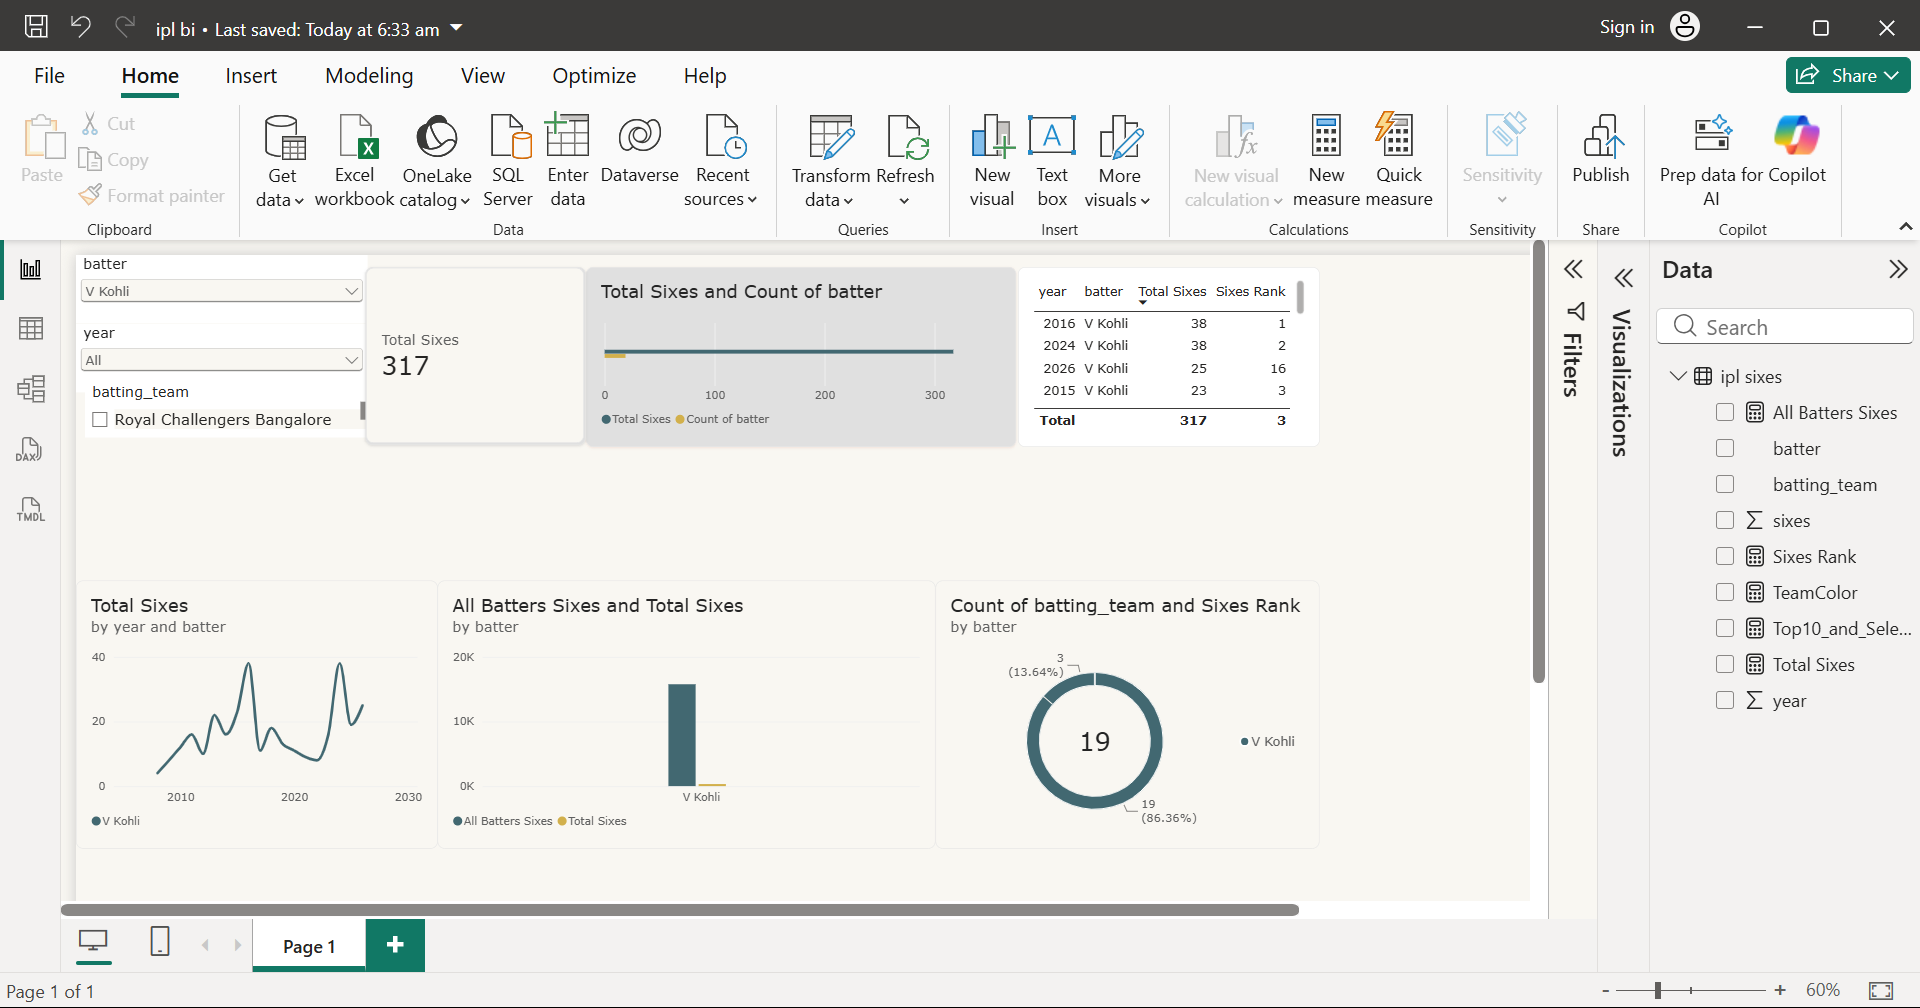

This screenshot's page, from the dashboard's own definition file:
{"tool":"powerbi","page":{"name":"Page 1","canvas":[1920,1080],"ordinal":0},"visuals":[{"type":"tableEx","fields":{"Values":["ipl sixes.year","ipl sixes.batter","ipl sixes.Total Sixes","ipl sixes.Sixes Rank"]},"box":[1046.7,13.3,335.6,200],"z":0},{"type":"slicer","fields":{"Values":["ipl sixes.year"]},"box":[0,76.2,323.9,76.1],"z":1000},{"type":"slicer","fields":{"Values":["ipl sixes.batter"]},"box":[0,0,323.8,76.2],"z":2000},{"type":"slicer","fields":{"Values":["ipl sixes.batting_team"]},"box":[9.5,141.3,314.3,60.3],"z":3000},{"type":"clusteredBarChart","fields":{"Y":["ipl sixes.Total Sixes","CountNonNull(ipl sixes.batter)"]},"box":[566.7,13.3,477.8,200],"z":4000},{"type":"cardVisual","fields":{"Data":["ipl sixes.Total Sixes"]},"box":[322.2,13.3,244.4,197.8],"z":5000},{"type":"clusteredColumnChart","fields":{"Category":["ipl sixes.batter"],"Y":["ipl sixes.All Batters Sixes","ipl sixes.Total Sixes"]},"box":[402.2,362.2,553.3,297.8],"z":6000},{"type":"lineChart","fields":{"Category":["ipl sixes.year"],"Y":["ipl sixes.Total Sixes"],"Series":["ipl sixes.batter"]},"box":[0,362.2,402.2,297.8],"z":7000},{"type":"donutChart","fields":{"Category":["ipl sixes.batter"],"Y":["CountNonNull(ipl sixes.batting_team)","ipl sixes.Sixes Rank"]},"box":[955.6,362.2,426.7,297.8],"z":8000}]}

Visuals, with their boxes on the page's 1920x1080 design canvas (x1, y1, x2, y2). These are canvas units, not pixel positions in the 1920x1008 screenshot, which may show the page scaled, cropped or inside an application window:
tableEx - ipl sixes.year x ipl sixes.batter: bbox=[1047, 13, 1382, 213]
slicer - ipl sixes.year: bbox=[0, 76, 324, 152]
slicer - ipl sixes.batter: bbox=[0, 0, 324, 76]
slicer - ipl sixes.batting_team: bbox=[10, 141, 324, 202]
clusteredBarChart - ipl sixes.Total Sixes x CountNonNull(ipl sixes.batter): bbox=[567, 13, 1044, 213]
cardVisual - ipl sixes.Total Sixes: bbox=[322, 13, 567, 211]
clusteredColumnChart - ipl sixes.batter x ipl sixes.All Batters Sixes: bbox=[402, 362, 956, 660]
lineChart - ipl sixes.year x ipl sixes.Total Sixes: bbox=[0, 362, 402, 660]
donutChart - ipl sixes.batter x CountNonNull(ipl sixes.batting_team): bbox=[956, 362, 1382, 660]
